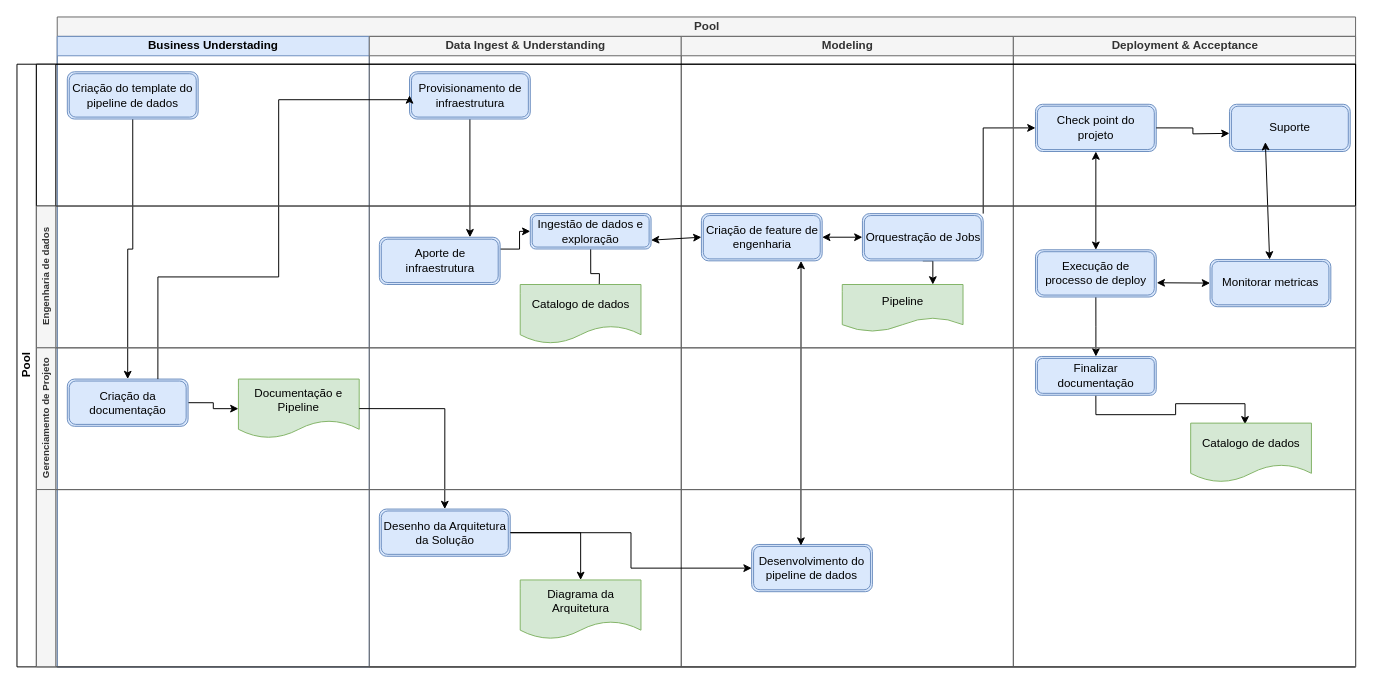
The diagram is 1373 pixels wide and 684 high, and some of its shapes have lost their labels. The shapes that lost their labels are listed below. From the top down, each one's centre as x and y in pixels, then its label:
At pixel 695 134: "Designer projeto".
At pixel 695 578: "Arquitetura da soluçao".
